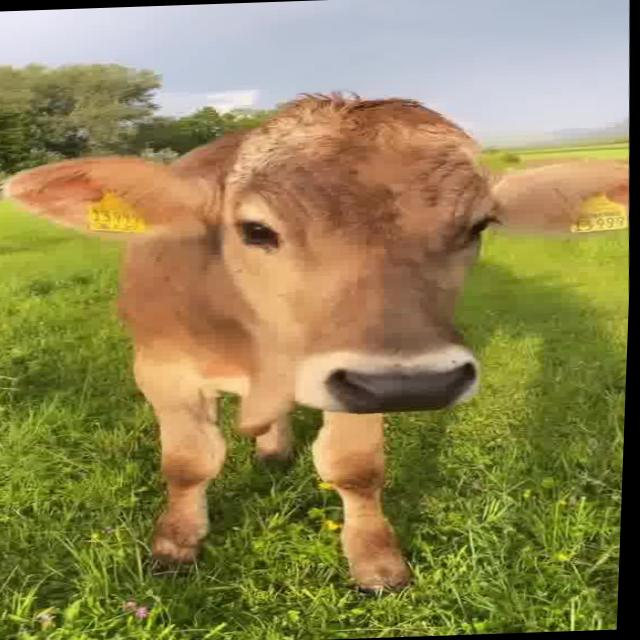cowFace: (0, 69, 638, 411)
